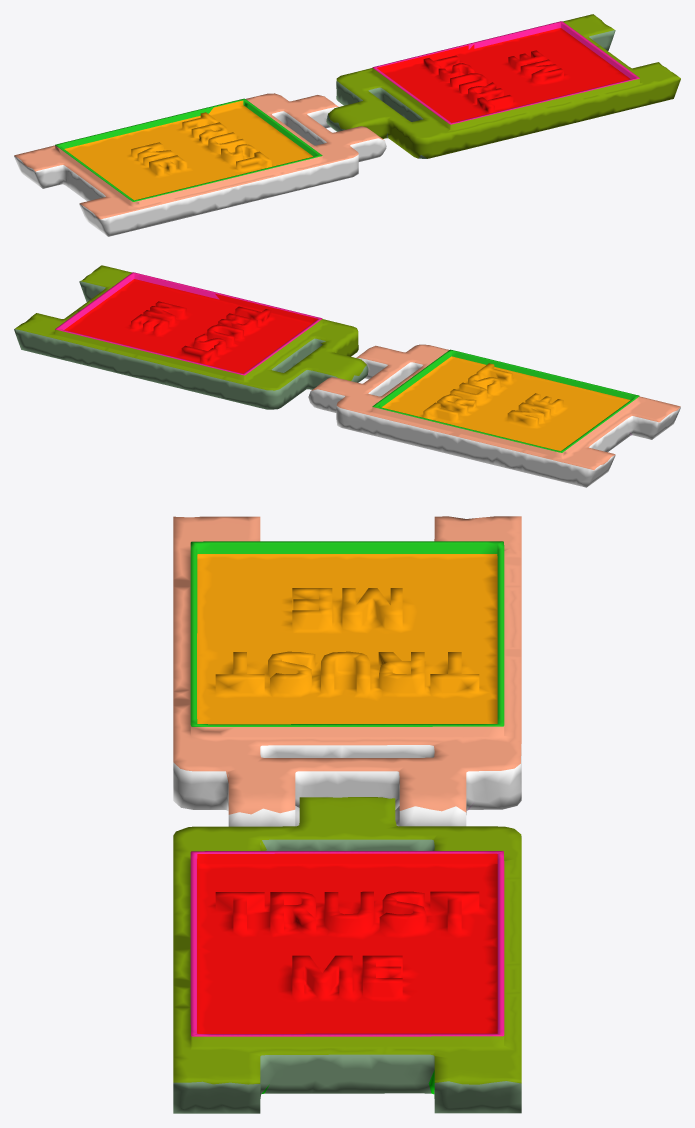
Rendered from model_88_segmented_new.obj.
3 views of the same model, one above another, from view 1: azimuth 30°, elevation 25°; view 2: azimuth 150°, elevation 25°; view 3: azimuth 270°, elevation 25° (orthographic). The views are drawn at different scales.
Size of the model in its own units: 154 by 6.63 by 40.
